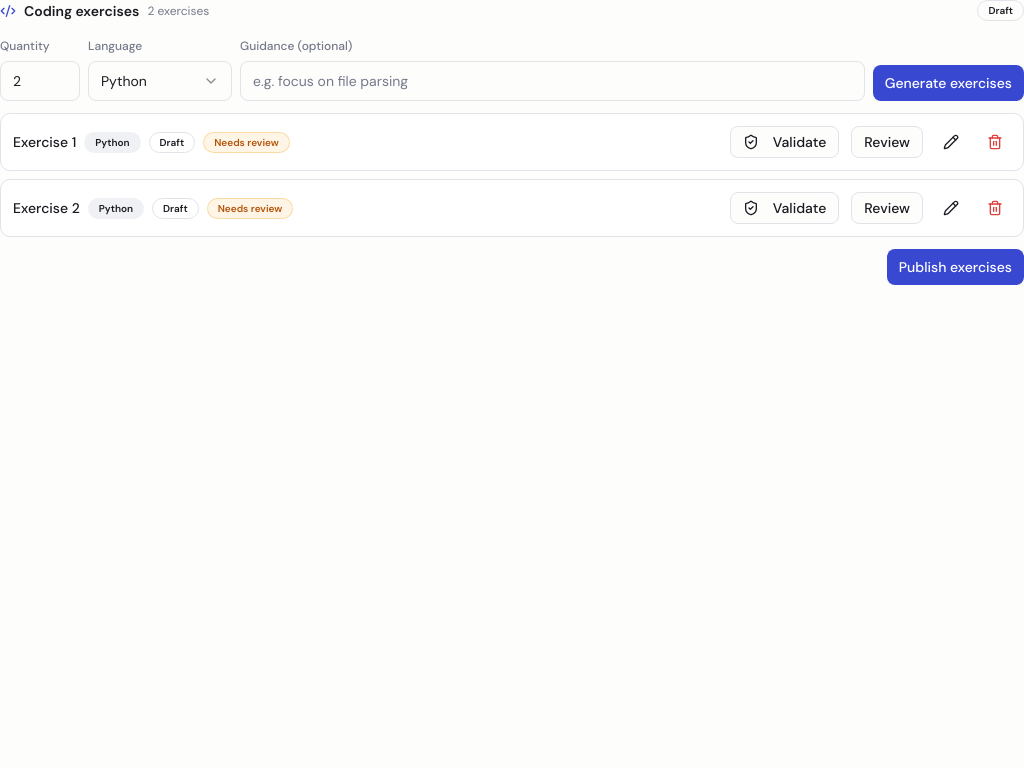
CodingExercisesSection — review flow › auto-opens the review dialog over unreviewed exercises after generation
Click the button "Generate exercises" at (948, 83), box [873,65,1023,101]
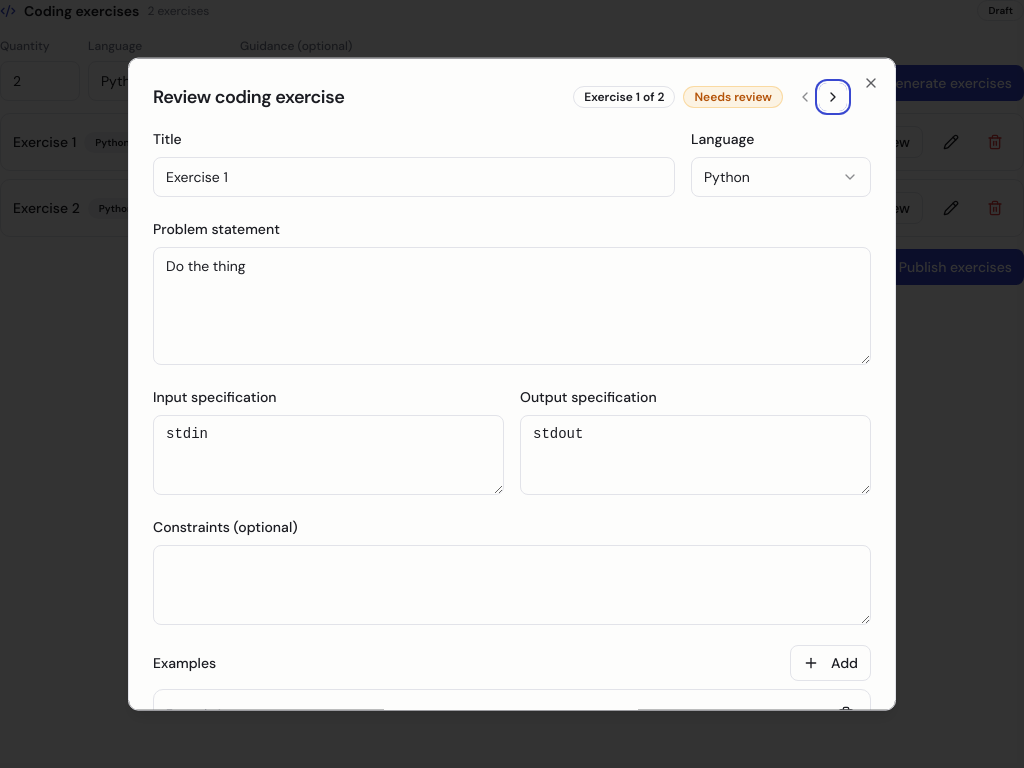
Expected: the heading "Review coding exercise" is shown, [153,88,344,106]
Expected: the text "Exercise 1 of 2" is shown, [573,86,675,108]
